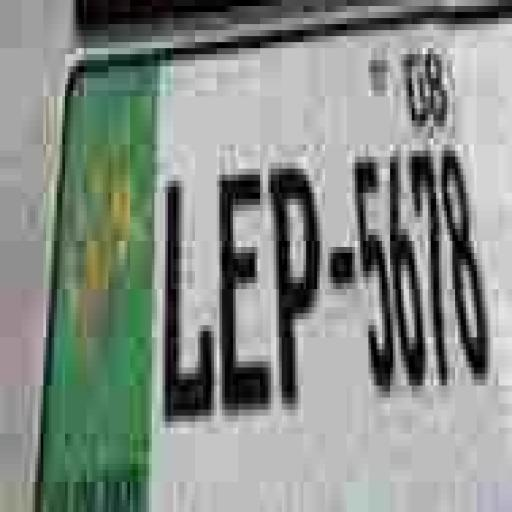5: (356, 158, 392, 403)
6: (385, 152, 423, 410)
7: (410, 156, 450, 408)
8: (442, 138, 498, 391)
E: (216, 156, 268, 418)
L: (162, 177, 215, 411)
P: (266, 146, 320, 416)
